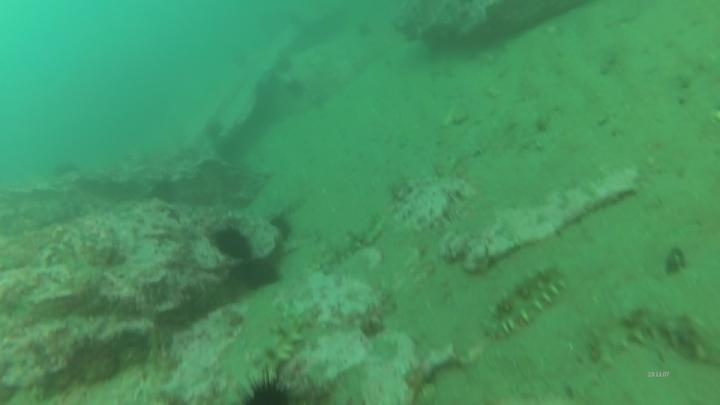echinus: (210, 215, 261, 263), (238, 371, 303, 405)
holothurian: (592, 305, 720, 370), (478, 267, 572, 345), (249, 298, 321, 381), (313, 211, 388, 272)
